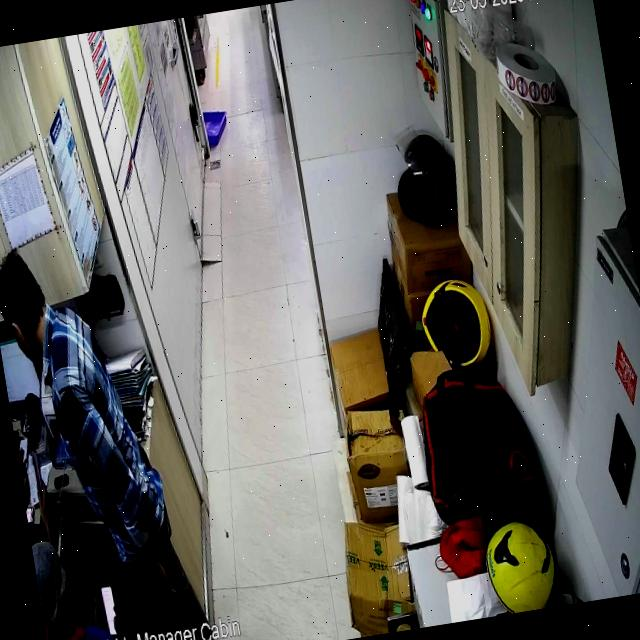helmet: (485, 521, 555, 613), (395, 133, 455, 230)
no_helmet: (0, 254, 44, 360)
